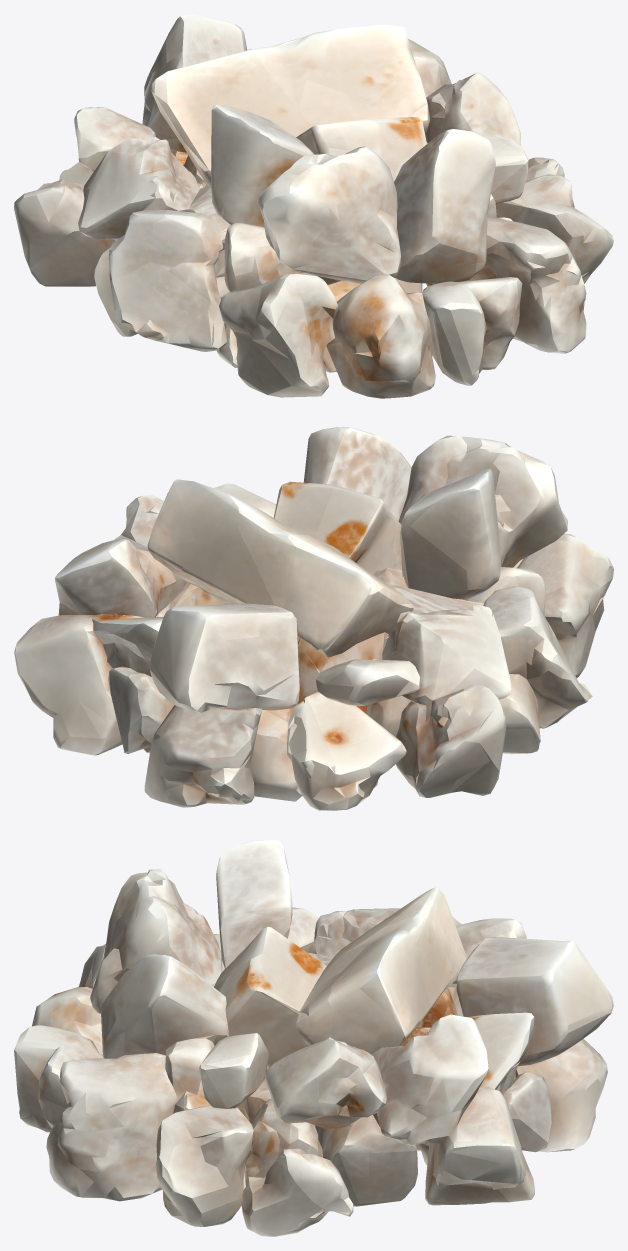
The model's file is min2-salt-final.glb.
3 views of the same model, one above another, from view 1: azimuth 30°, elevation 25°; view 2: azimuth 150°, elevation 25°; view 3: azimuth 270°, elevation 25° (orthographic). The views are drawn at different scales.
Bounding box in the file's own units: 0.8684 × 0.4 × 0.9502.
1 material, 1 textured.
